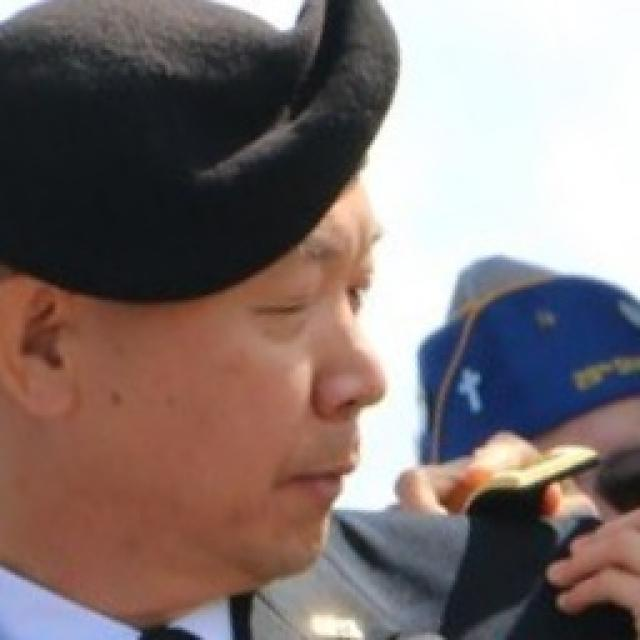glasses: (586, 432, 640, 522)
no-glasses: (239, 242, 382, 336)
